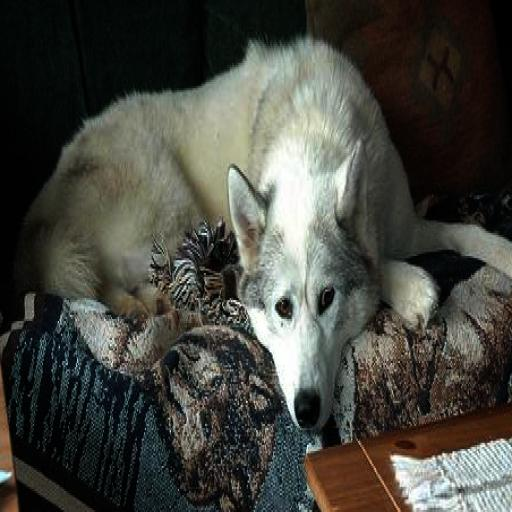dog_face: (222, 153, 373, 428)
